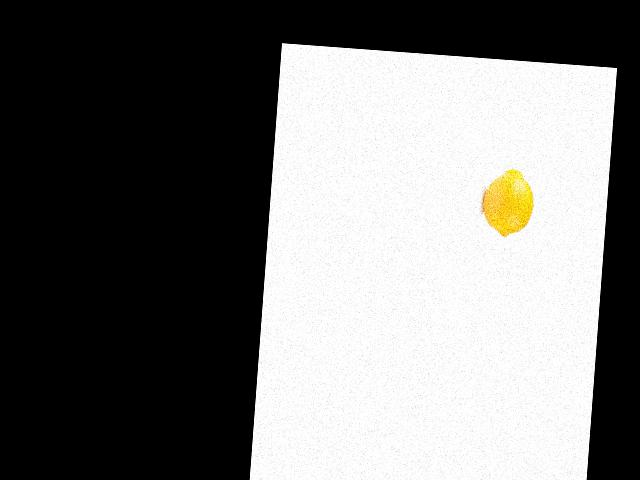lemon: (477, 163, 537, 239)
